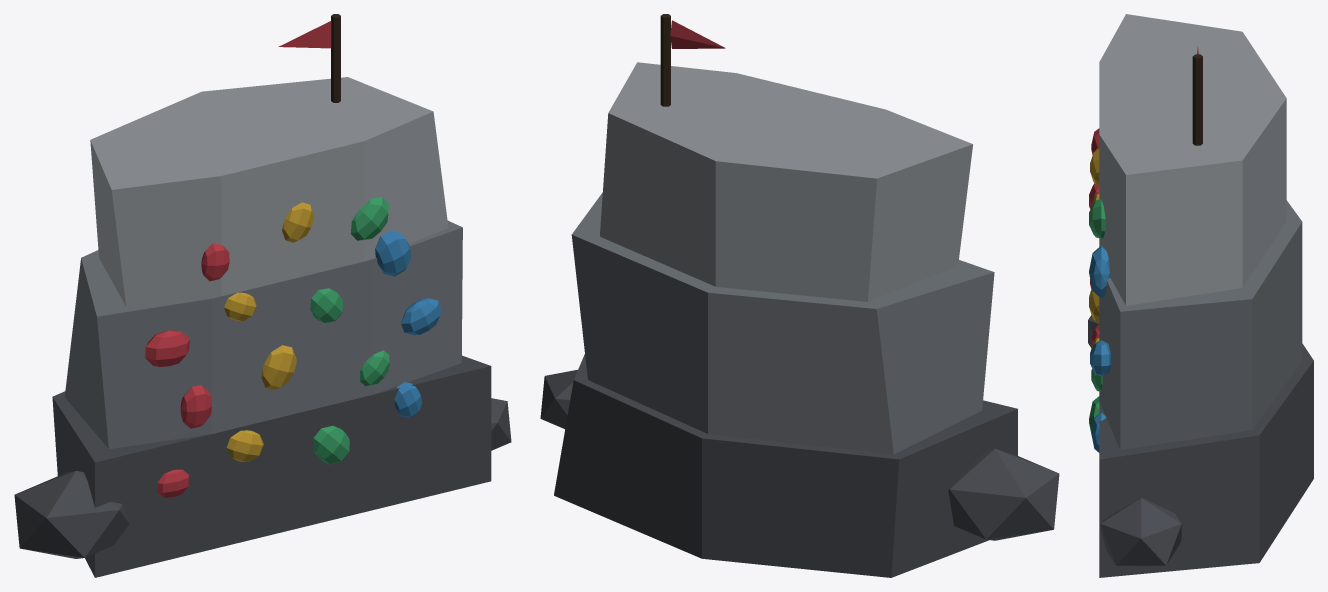
The model's file is Garden_ClimbWall.glb.
The picture shows the model from 3 angles, left to right: view 1: azimuth 30°, elevation 25°; view 2: azimuth 150°, elevation 25°; view 3: azimuth 270°, elevation 25°; orthographic projection. The views are drawn at different scales.
Visible parts, largest first — view 1: ClimbWall; view 2: ClimbWall; view 3: ClimbWall.
Part boxes in pixels (x1,y1,x2,y2): ClimbWall: [14, 14, 511, 577]; ClimbWall: [540, 14, 1059, 577]; ClimbWall: [1088, 14, 1313, 577].
Size of the model in its own units: 5.09 by 4.55 by 1.99.
